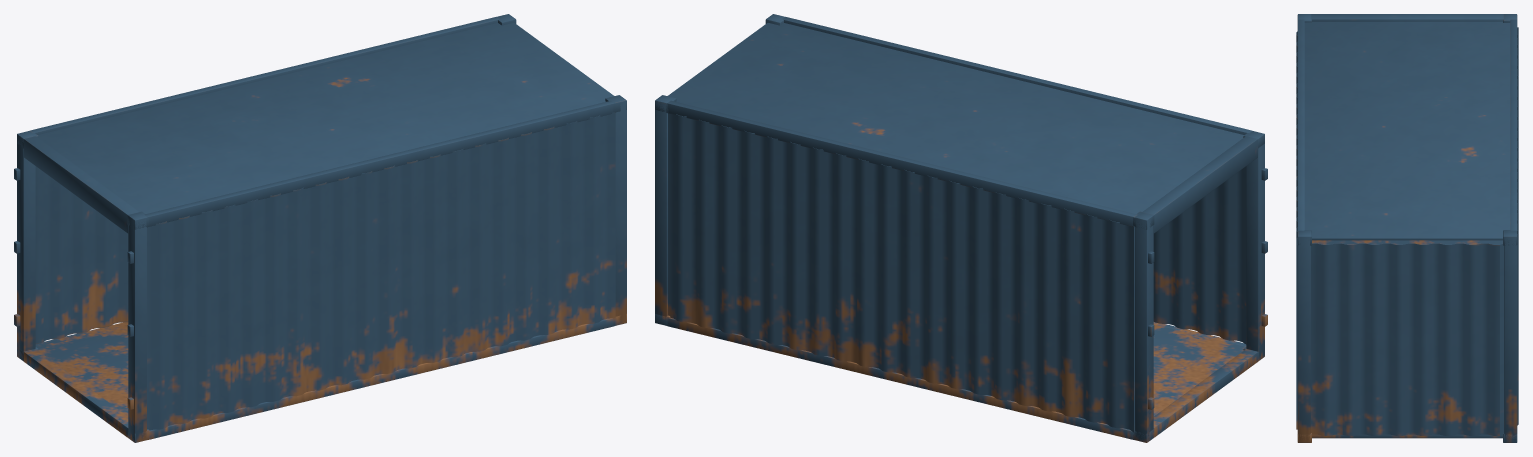
Rendered from SM_ShippingContainer.fbx.
3 renders of one model, left to right at view 1: azimuth 30°, elevation 25°; view 2: azimuth 150°, elevation 25°; view 3: azimuth 270°, elevation 25°, orthographic. The views are drawn at different scales.
Visible parts, largest first — view 1: SM_ShippingContainer; view 2: SM_ShippingContainer; view 3: SM_ShippingContainer.
Part boxes in pixels (x1=…): SM_ShippingContainer: x1=14, y1=14, x2=626, y2=442; SM_ShippingContainer: x1=655, y1=14, x2=1267, y2=442; SM_ShippingContainer: x1=1296, y1=14, x2=1518, y2=442.
Size of what is drawn, in the model's own units: 6.06 by 2.6 by 2.53.
Materials: 1 (1 with a texture image).
